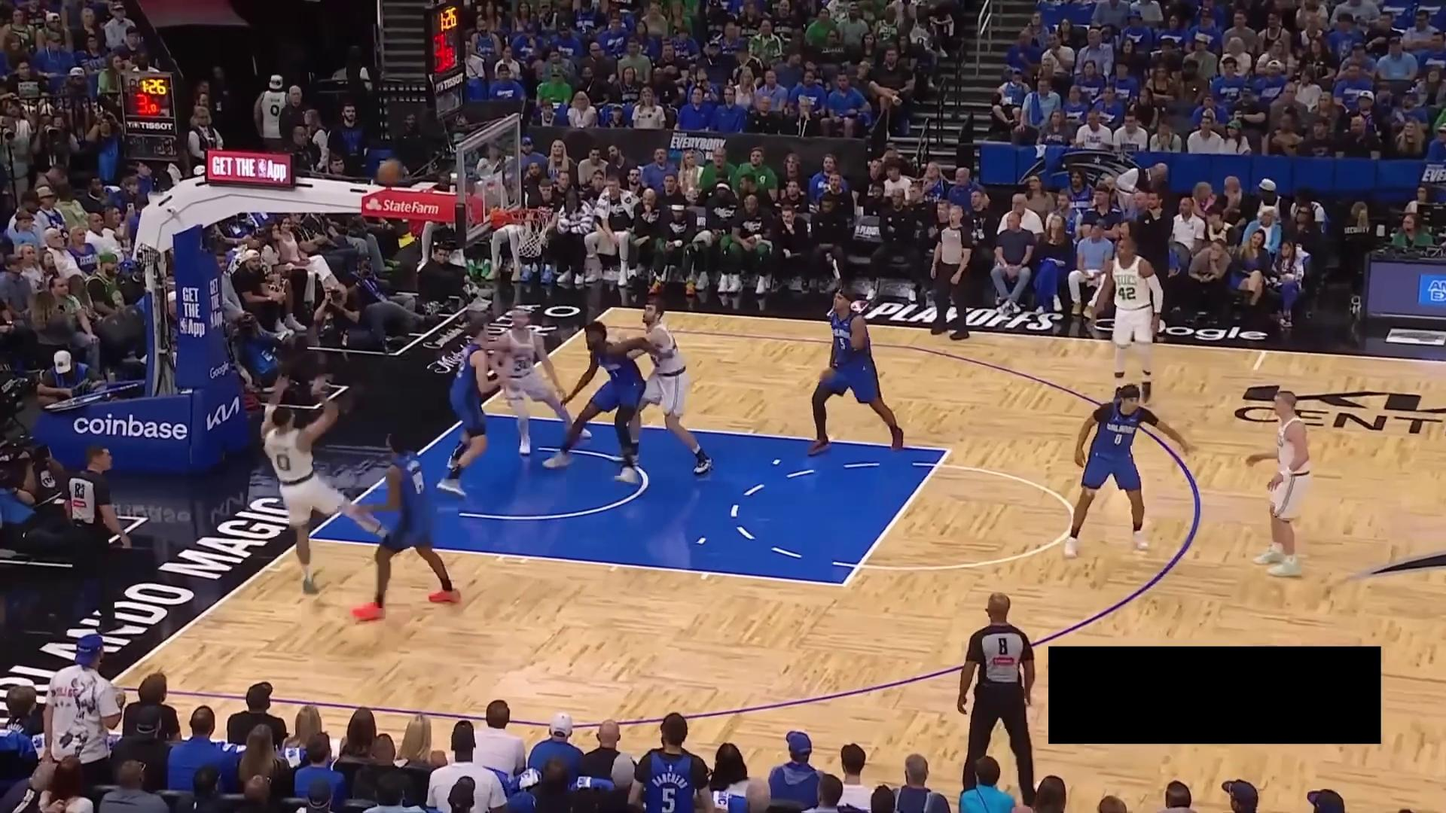ball: (377, 159, 405, 186)
number: (275, 450, 292, 471), (514, 356, 533, 373), (1118, 286, 1137, 301), (1114, 433, 1123, 446), (839, 336, 847, 350)
player: (257, 374, 391, 595), (1065, 382, 1201, 560), (539, 316, 673, 484), (350, 427, 464, 622), (614, 296, 715, 485), (802, 286, 908, 459), (488, 307, 594, 457), (1088, 234, 1168, 411), (1246, 387, 1318, 582), (438, 311, 509, 497)
referee: (956, 587, 1041, 813), (62, 444, 141, 633), (925, 201, 982, 343)
rim: (508, 208, 548, 225)
